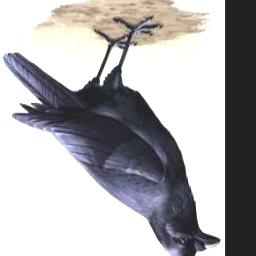Crow: (2, 12, 221, 256)
